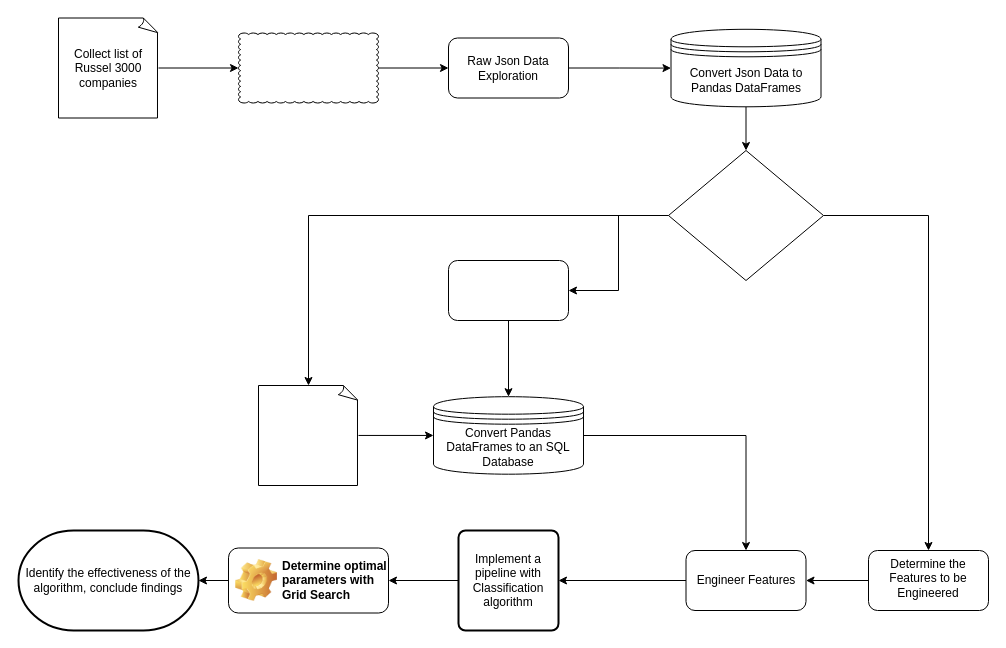
Image size: 1006x648. Some labels were removed from this diagram. Here are the shapes that lost their labels. From the top down, the centre of each, then its label:
pixel 308 67: Make API Requests
pixel 746 215: Conduct EDA on the Pandas DataFrames
pixel 508 290: Conduct necessary cleaning on the data.
pixel 308 435: Collect Standard Industrial Classifications from the SEC
